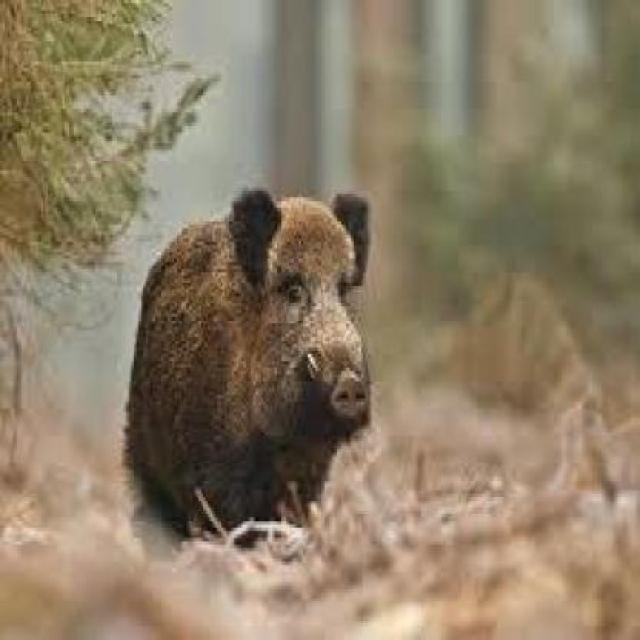wildboar: (118, 185, 376, 547)
